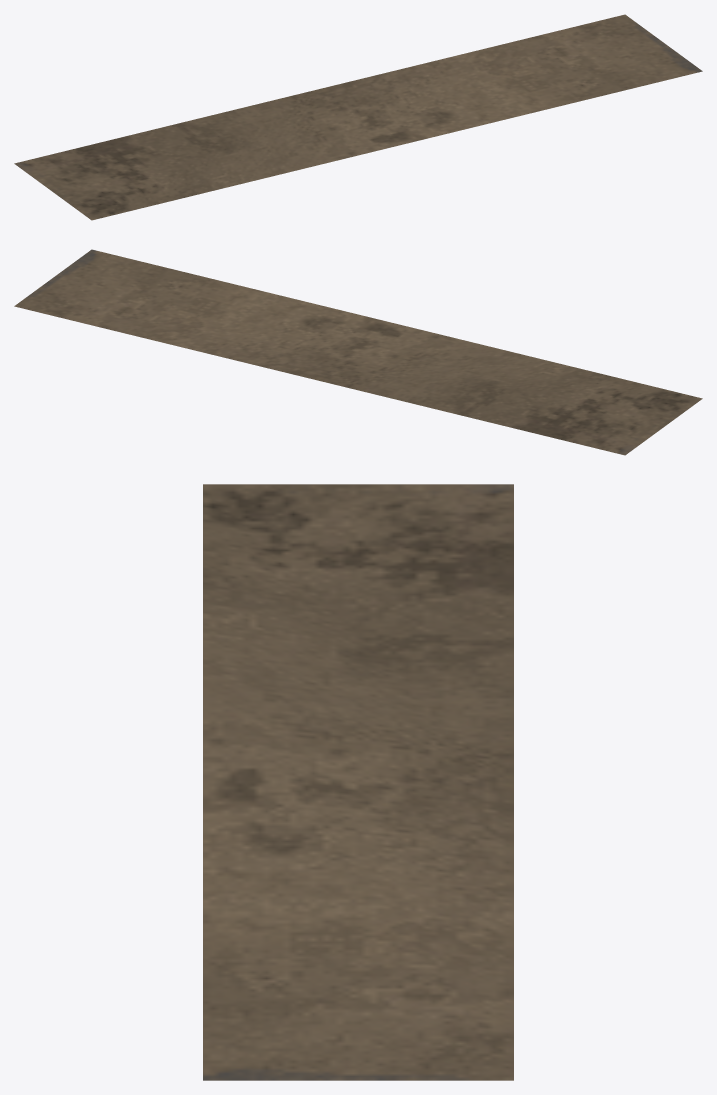
Rendered from Teto Direita.fbx.
3 renders of one model, top to bottom at view 1: azimuth 30°, elevation 25°; view 2: azimuth 150°, elevation 25°; view 3: azimuth 270°, elevation 25°, orthographic. The views are drawn at different scales.
Visible parts, largest first — view 1: Teto Direita; view 2: Teto Direita; view 3: Teto Direita.
Boxes of the visible parts, left/top/right/bottom form: Teto Direita: left=14, top=14, right=702, bottom=220; Teto Direita: left=14, top=249, right=702, bottom=455; Teto Direita: left=203, top=484, right=513, bottom=1080.
Size of the model in its own units: 1565 by 0 by 345.
